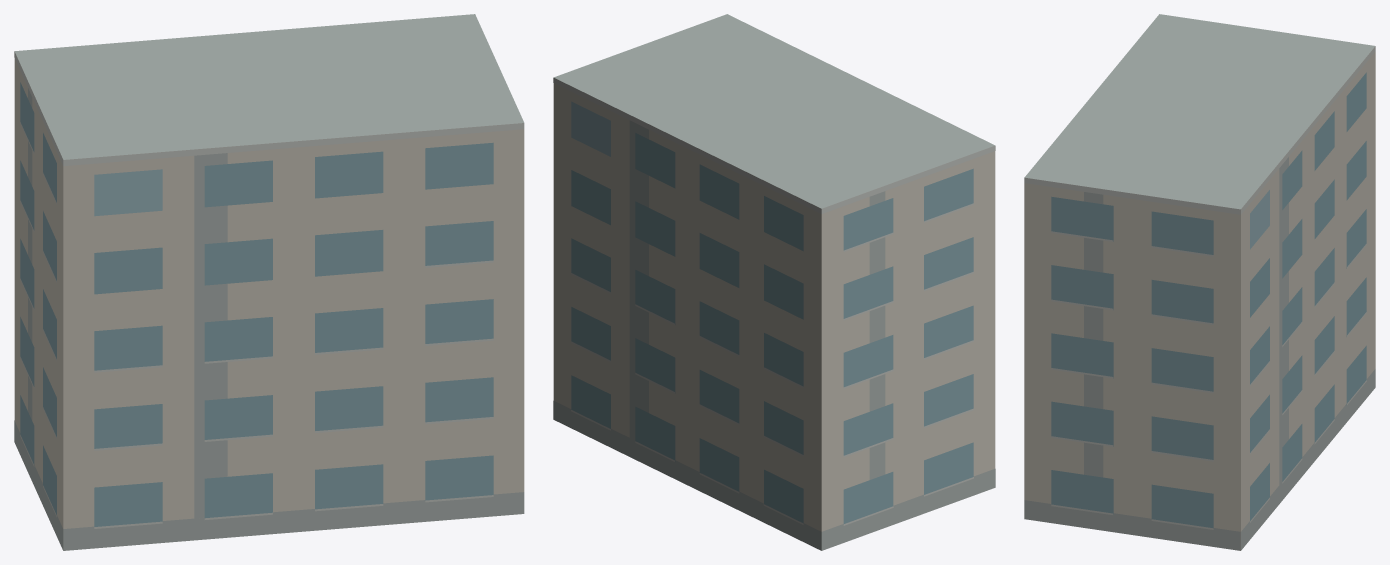
The model's file is residential-a76b8f18-d5c8-4a27-9910-ce1d599c4858.glb.
3 renders of one model, left to right at view 1: azimuth 30°, elevation 25°; view 2: azimuth 150°, elevation 25°; view 3: azimuth 270°, elevation 25°, orthographic. The views are drawn at different scales.
Parts seen in each view (by area): view 1: residential-a76b8f18-d5c8-4a27-9910-ce1d599c4858.tmp; view 2: residential-a76b8f18-d5c8-4a27-9910-ce1d599c4858.tmp; view 3: residential-a76b8f18-d5c8-4a27-9910-ce1d599c4858.tmp.
Part boxes in pixels (x1,y1,x2,y2): residential-a76b8f18-d5c8-4a27-9910-ce1d599c4858.tmp: (14,14,524,550); residential-a76b8f18-d5c8-4a27-9910-ce1d599c4858.tmp: (553,14,995,550); residential-a76b8f18-d5c8-4a27-9910-ce1d599c4858.tmp: (1024,14,1375,550).
Bounding box in the file's own units: 18.72 × 15.25 × 14.23.
